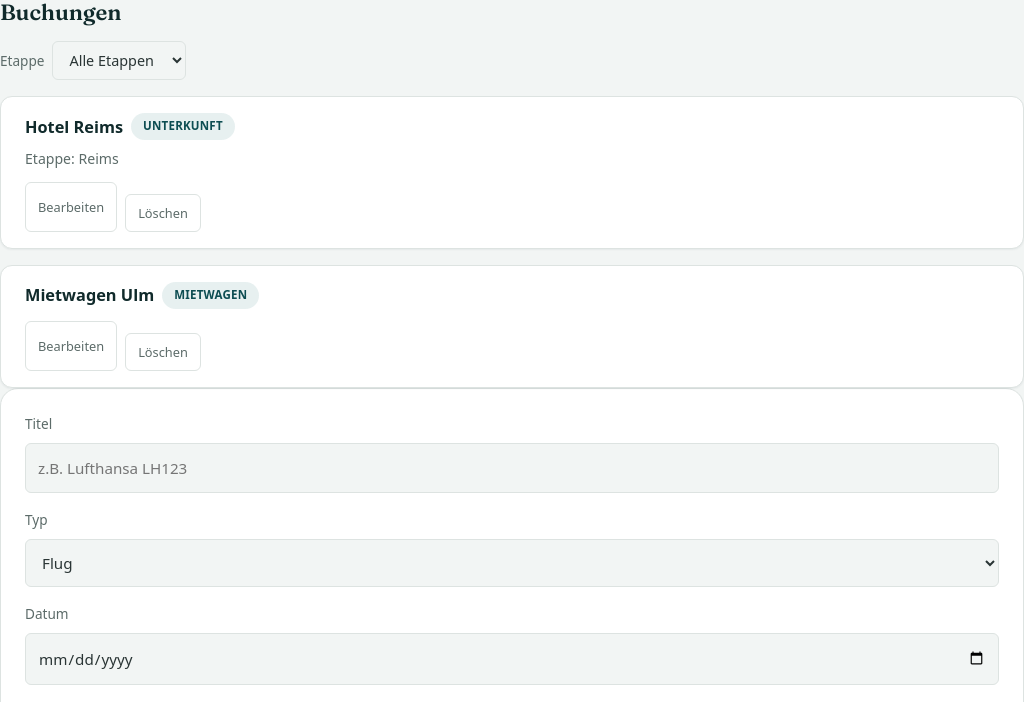
Test: Etappen-Filter im Bereich Buchungen › Nutzerpfad: Etappe waehlen -> nur die zugeordneten Eintraege bleiben sichtbar
The width and height of the screenshot is (1024, 702).
Expected: the text "Hotel Reims" is shown, x1=25 y1=114 x2=123 y2=140
Select "Reims" in the dropdown labelled "Etappe" at x=120, y=61, box x1=52 y1=42 x2=186 y2=80
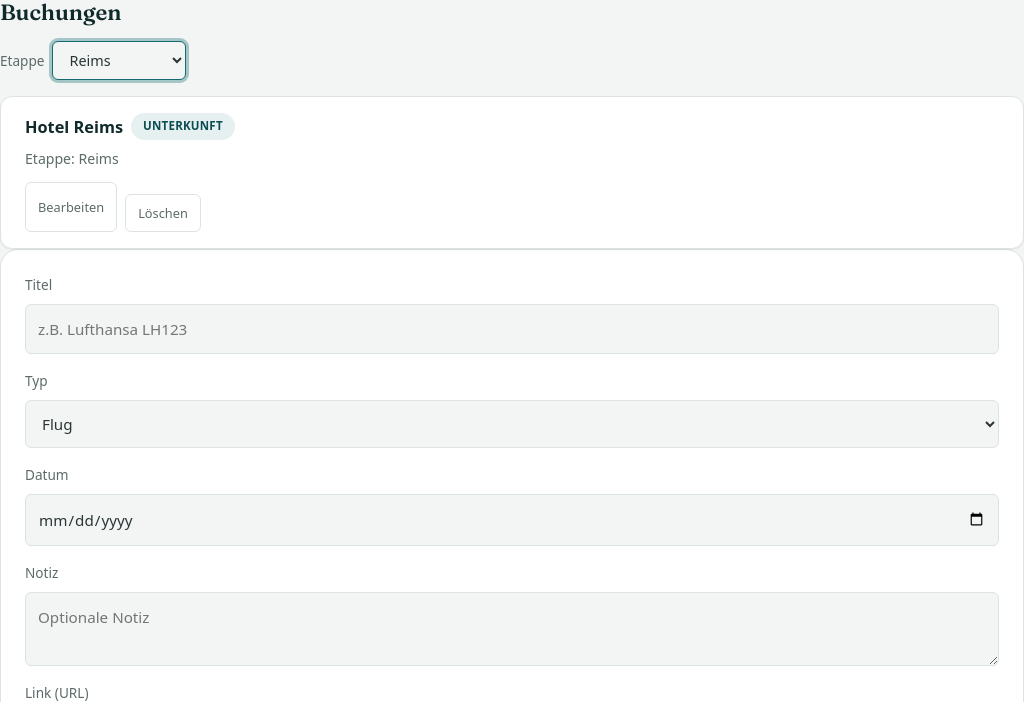
Expected: the text "Hotel Reims" is shown, x1=25 y1=114 x2=123 y2=140
Expected: the text "Mietwagen Ulm" is gone
